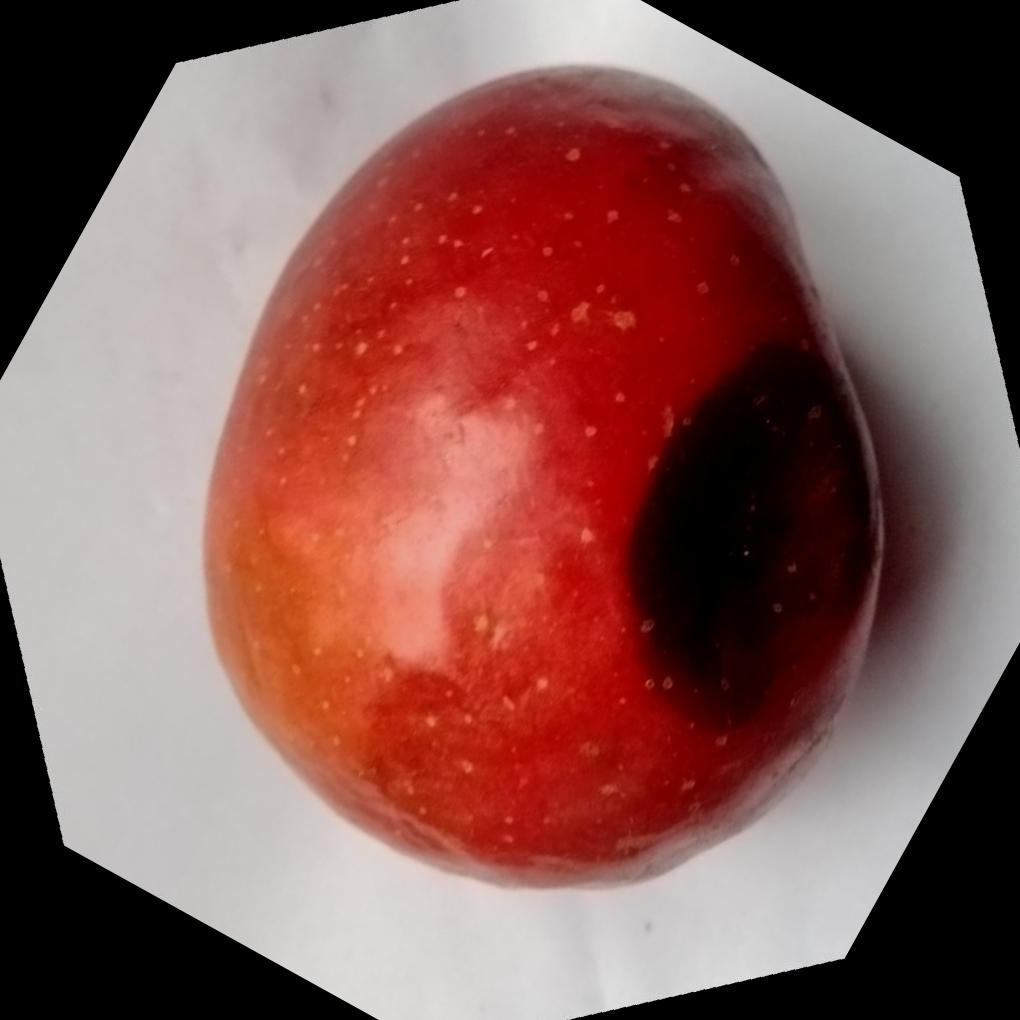FreshOrange: (202, 59, 888, 890)
